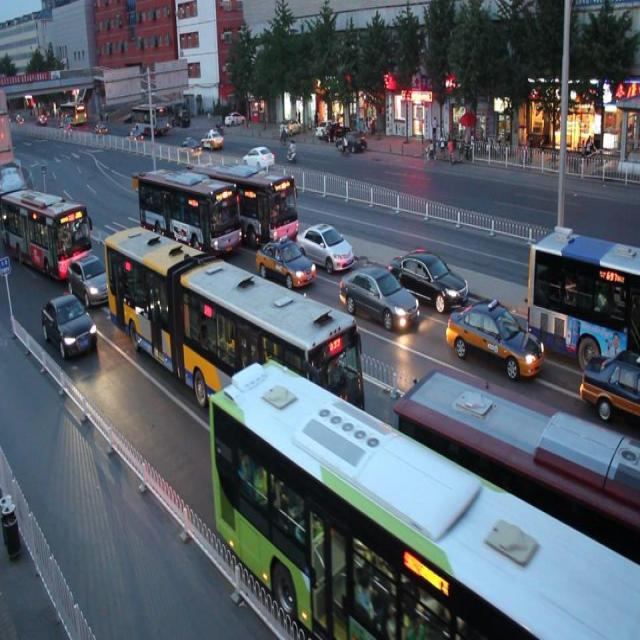car: (446, 294, 544, 382), (337, 258, 416, 331), (390, 243, 468, 309), (578, 346, 640, 416), (39, 290, 100, 360), (253, 230, 314, 289), (294, 214, 352, 273), (67, 253, 115, 306)
van: (210, 355, 640, 640), (102, 218, 366, 482), (394, 367, 640, 640), (524, 227, 640, 357), (136, 160, 240, 262), (191, 153, 298, 248), (1, 182, 90, 272)
